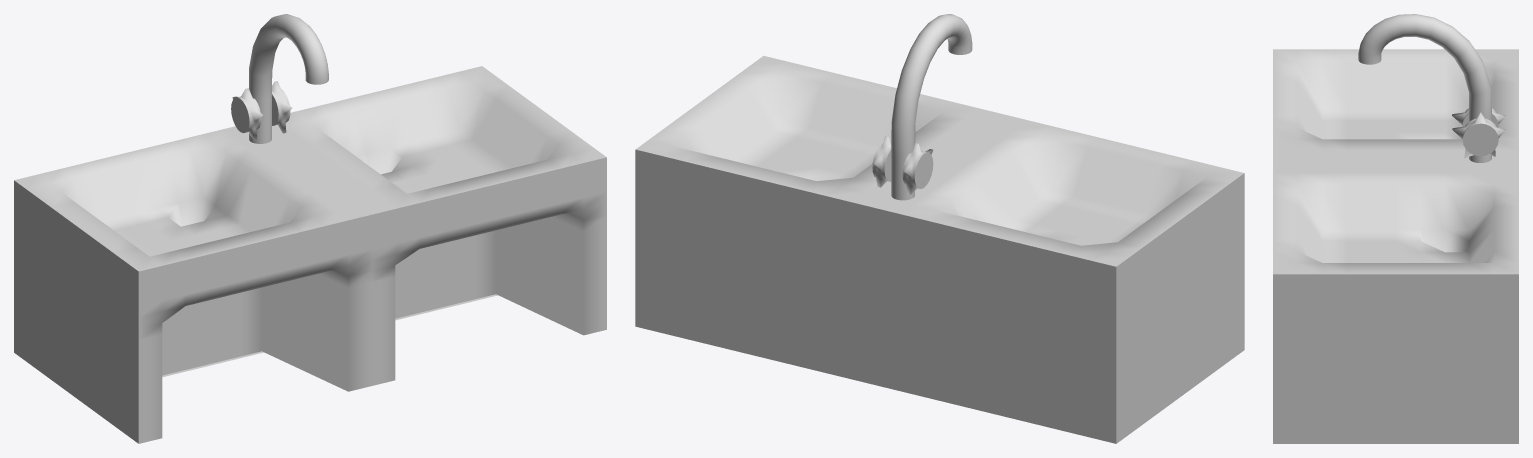
Rendered from Sink.FBX.
The picture shows the model from 3 angles, left to right: view 1: azimuth 30°, elevation 25°; view 2: azimuth 150°, elevation 25°; view 3: azimuth 270°, elevation 25°; orthographic projection. The views are drawn at different scales.
Visible parts, largest first — view 1: Box001, Cylinder001, Cylinder003, Cylinder002; view 2: Box001, Cylinder001, Cylinder003, Cylinder002; view 3: Box001, Cylinder001, Cylinder002, Cylinder003.
Boxes of the visible parts, box(x1,y1,x2,y2) form: Box001: box(14, 66, 606, 443); Cylinder001: box(249, 14, 328, 143); Cylinder003: box(231, 88, 262, 140); Cylinder002: box(272, 81, 291, 133); Box001: box(635, 55, 1244, 443); Cylinder001: box(891, 14, 972, 200); Cylinder003: box(902, 143, 933, 194); Cylinder002: box(872, 136, 891, 187); Box001: box(1273, 49, 1518, 443); Cylinder001: box(1358, 14, 1491, 162); Cylinder002: box(1452, 112, 1505, 158); Cylinder003: box(1452, 108, 1505, 127).
Bounding box in the file's own units: 111 × 72.35 × 51.44.
Materials: 4 (4 with a texture image).
